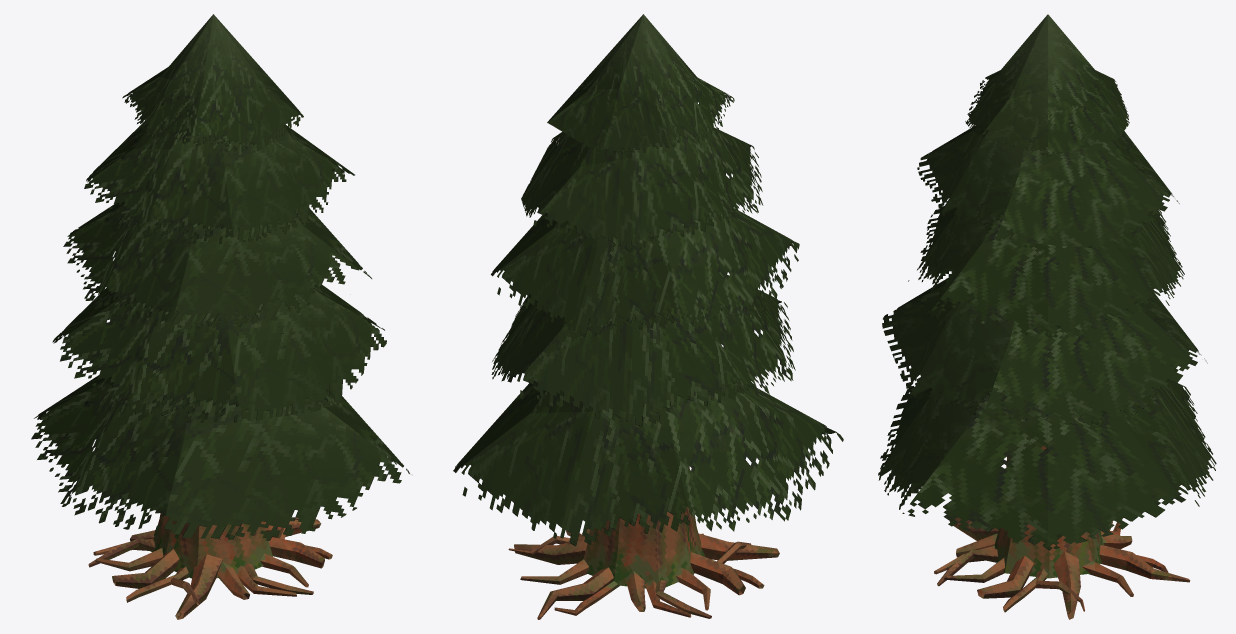
Rendered from pine2.glb.
3 renders of one model, left to right at view 1: azimuth 30°, elevation 25°; view 2: azimuth 150°, elevation 25°; view 3: azimuth 270°, elevation 25°, orthographic.
Parts seen in each view (by area): view 1: pine2, pine2Roots; view 2: pine2, pine2Roots; view 3: pine2, pine2Roots.
Boxes of the visible parts, <box> form: pine2: <box>31,14,409,578</box>; pine2Roots: <box>88,517,332,619</box>; pine2: <box>453,14,843,588</box>; pine2Roots: <box>508,528,779,619</box>; pine2: <box>878,14,1216,578</box>; pine2Roots: <box>934,517,1190,619</box>.
Bounding box in the file's own units: 10.53 × 18.45 × 10.53.
2 materials, 2 textured.
